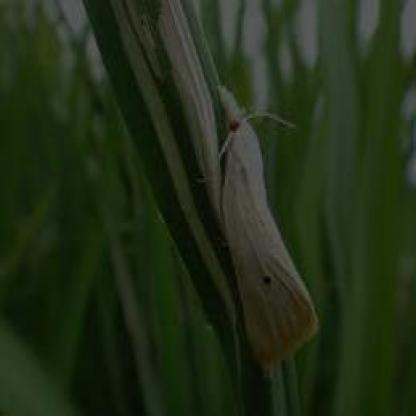stem-borer: (208, 80, 322, 376)
